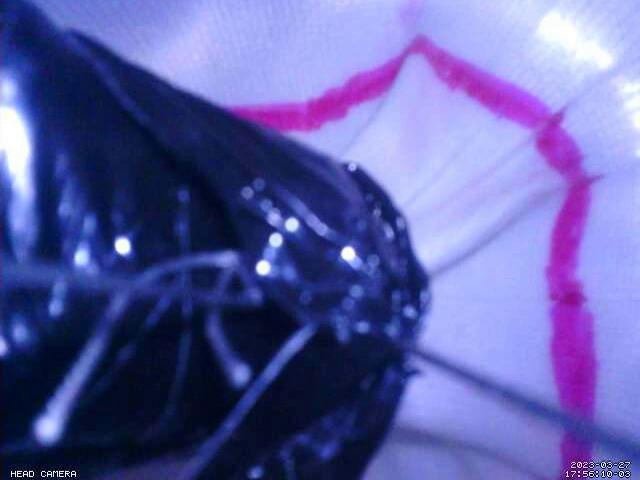red-circle: (222, 33, 599, 480)
